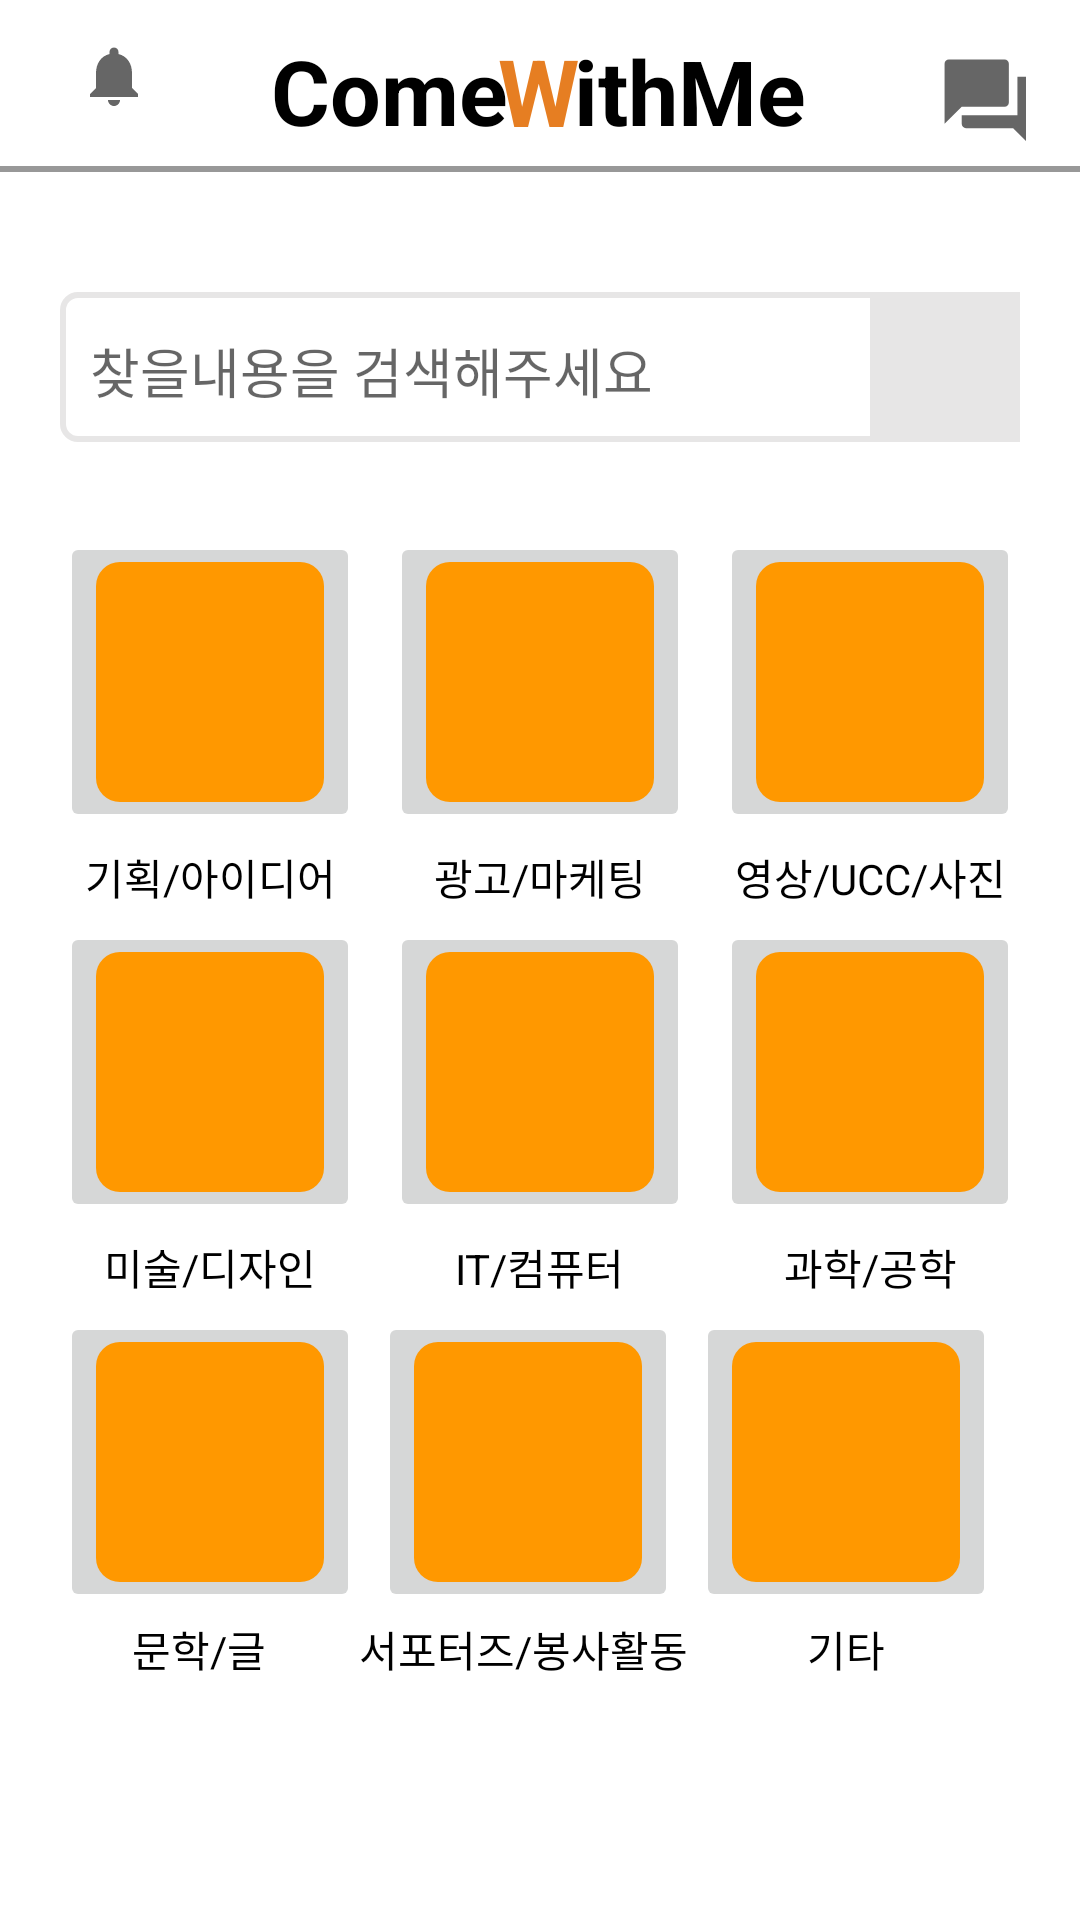

Named icons in this screenshot (1080 x 1920) and their centers, (x,y):
bell: (114,76)
message: (985,100)
